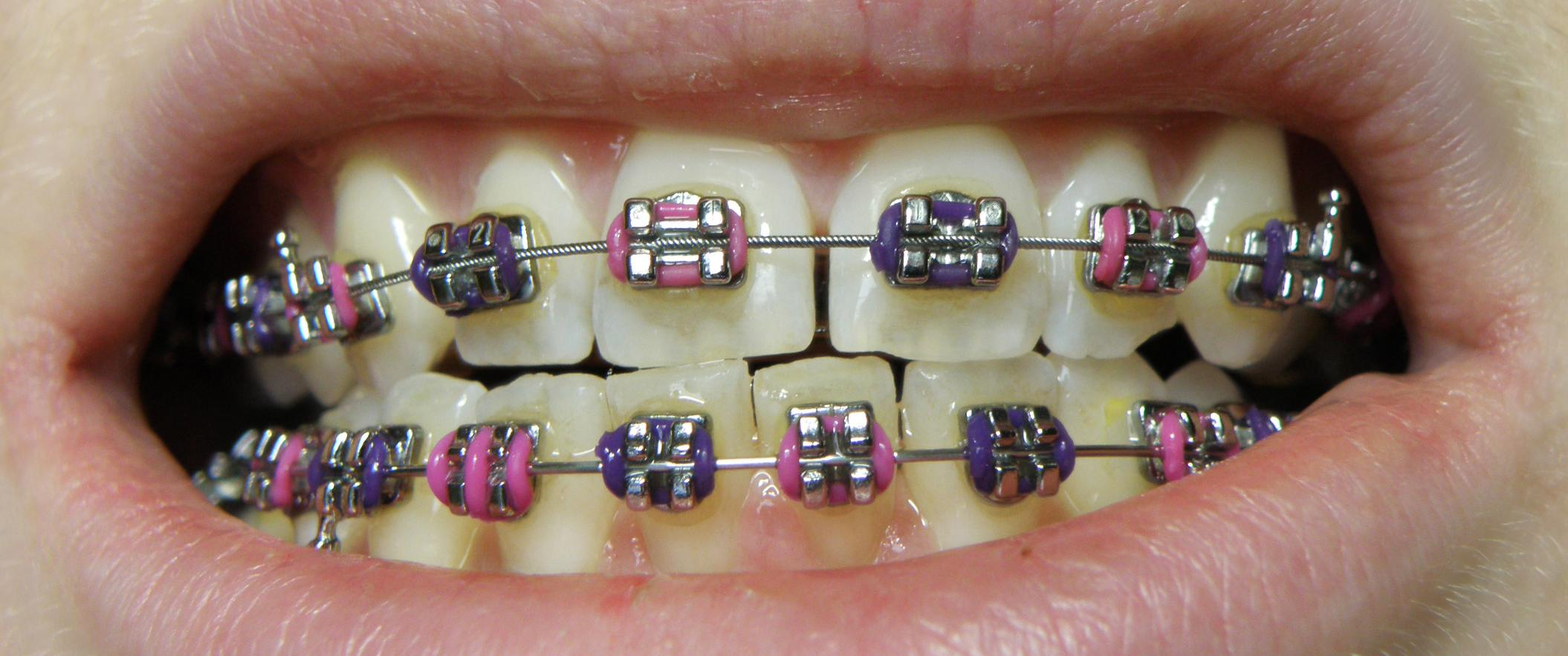Braces: (203, 178, 1397, 349), (212, 410, 1325, 522)
